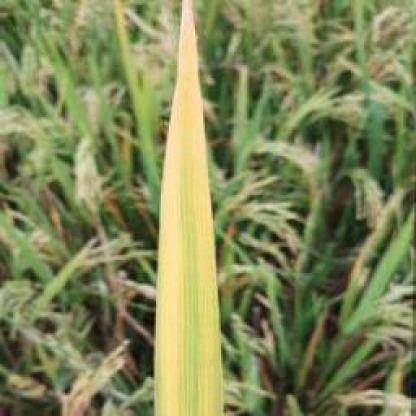Tungro: (152, 3, 229, 416)
